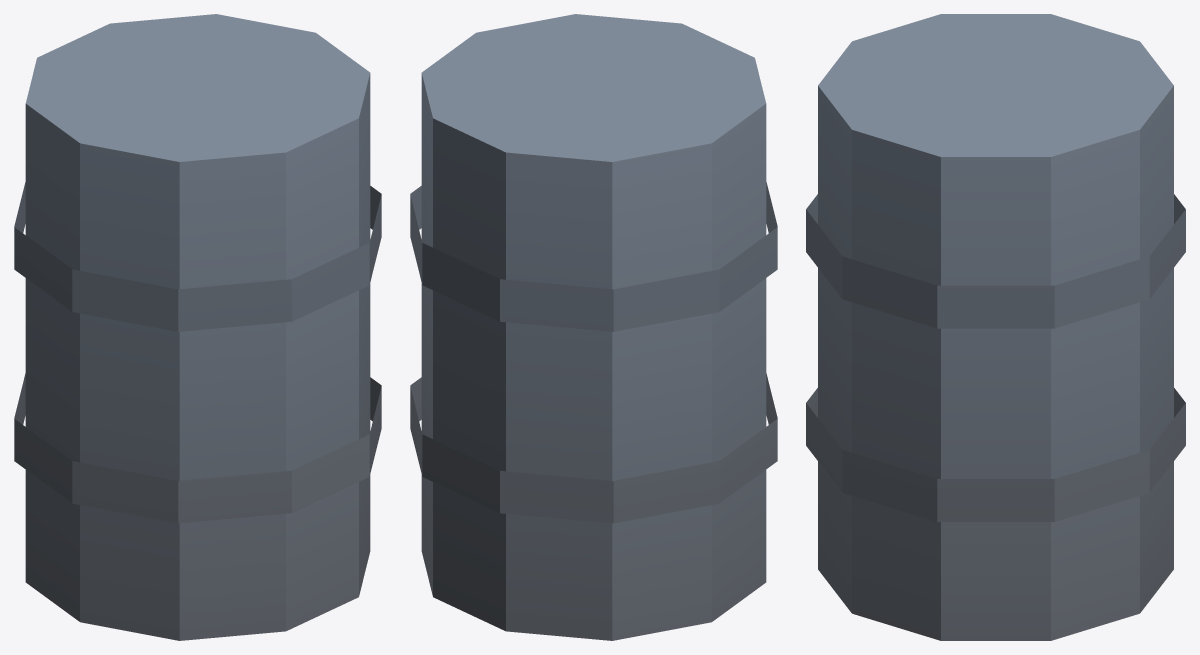
File: barrel_b.glb
3 renders of one model, left to right at view 1: azimuth 30°, elevation 25°; view 2: azimuth 150°, elevation 25°; view 3: azimuth 270°, elevation 25°, orthographic.
Visible parts, largest first — view 1: barrel_b; view 2: barrel_b; view 3: barrel_b.
Boxes of the visible parts, bbox=[...] form: barrel_b: bbox=[14, 14, 381, 640]; barrel_b: bbox=[410, 14, 777, 640]; barrel_b: bbox=[806, 14, 1185, 640].
Bounding box in the file's own units: 0.6087 × 0.9 × 0.64.
